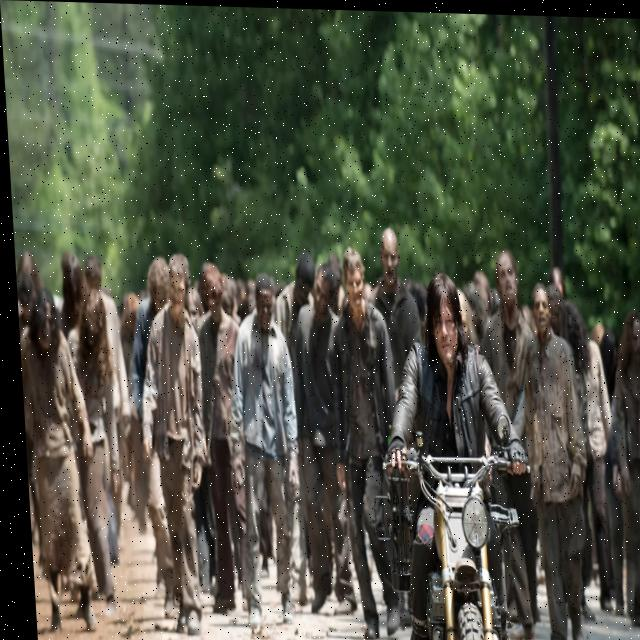Zombie: (338, 250, 366, 319), (492, 251, 520, 315), (310, 255, 334, 317), (163, 262, 189, 319), (377, 227, 397, 292), (33, 295, 53, 353), (59, 262, 85, 305), (16, 255, 35, 309), (83, 254, 100, 310), (526, 290, 548, 332), (201, 273, 220, 321), (146, 266, 167, 308), (250, 284, 270, 326), (293, 259, 308, 313), (625, 315, 640, 362), (548, 285, 562, 330)
human: (423, 273, 460, 374)
